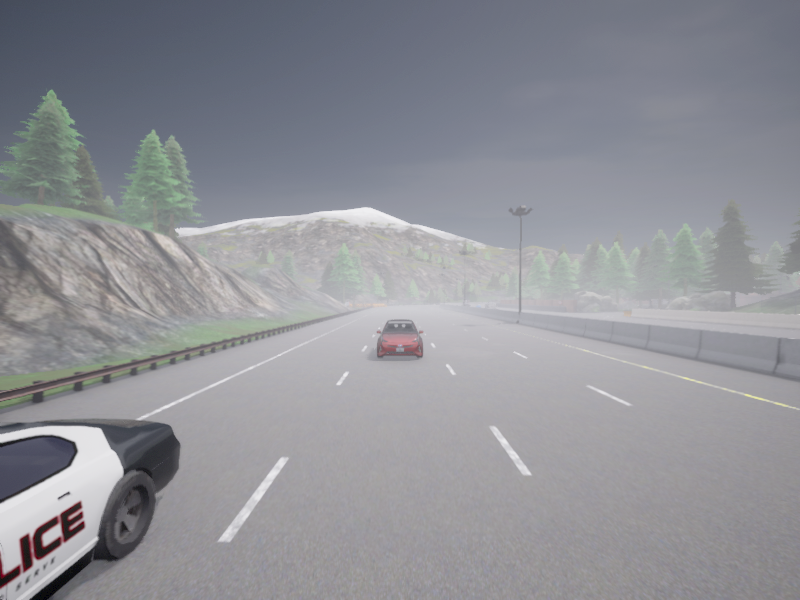vehicle: (0, 418, 180, 599), (376, 319, 423, 357), (484, 303, 494, 308), (463, 300, 469, 306), (460, 303, 468, 306), (475, 304, 480, 307)
